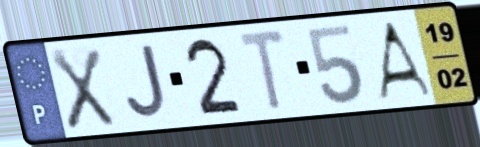2: (183, 35, 245, 118)
5: (306, 21, 367, 107)
A: (374, 18, 436, 101)
J: (123, 42, 169, 122)
T: (235, 26, 289, 116)
X: (46, 46, 118, 132)
